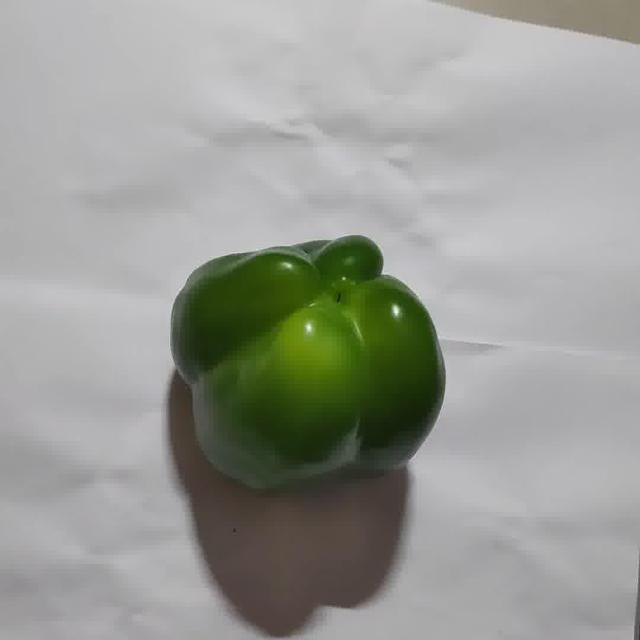Bell Pepper: (171, 236, 444, 489)
